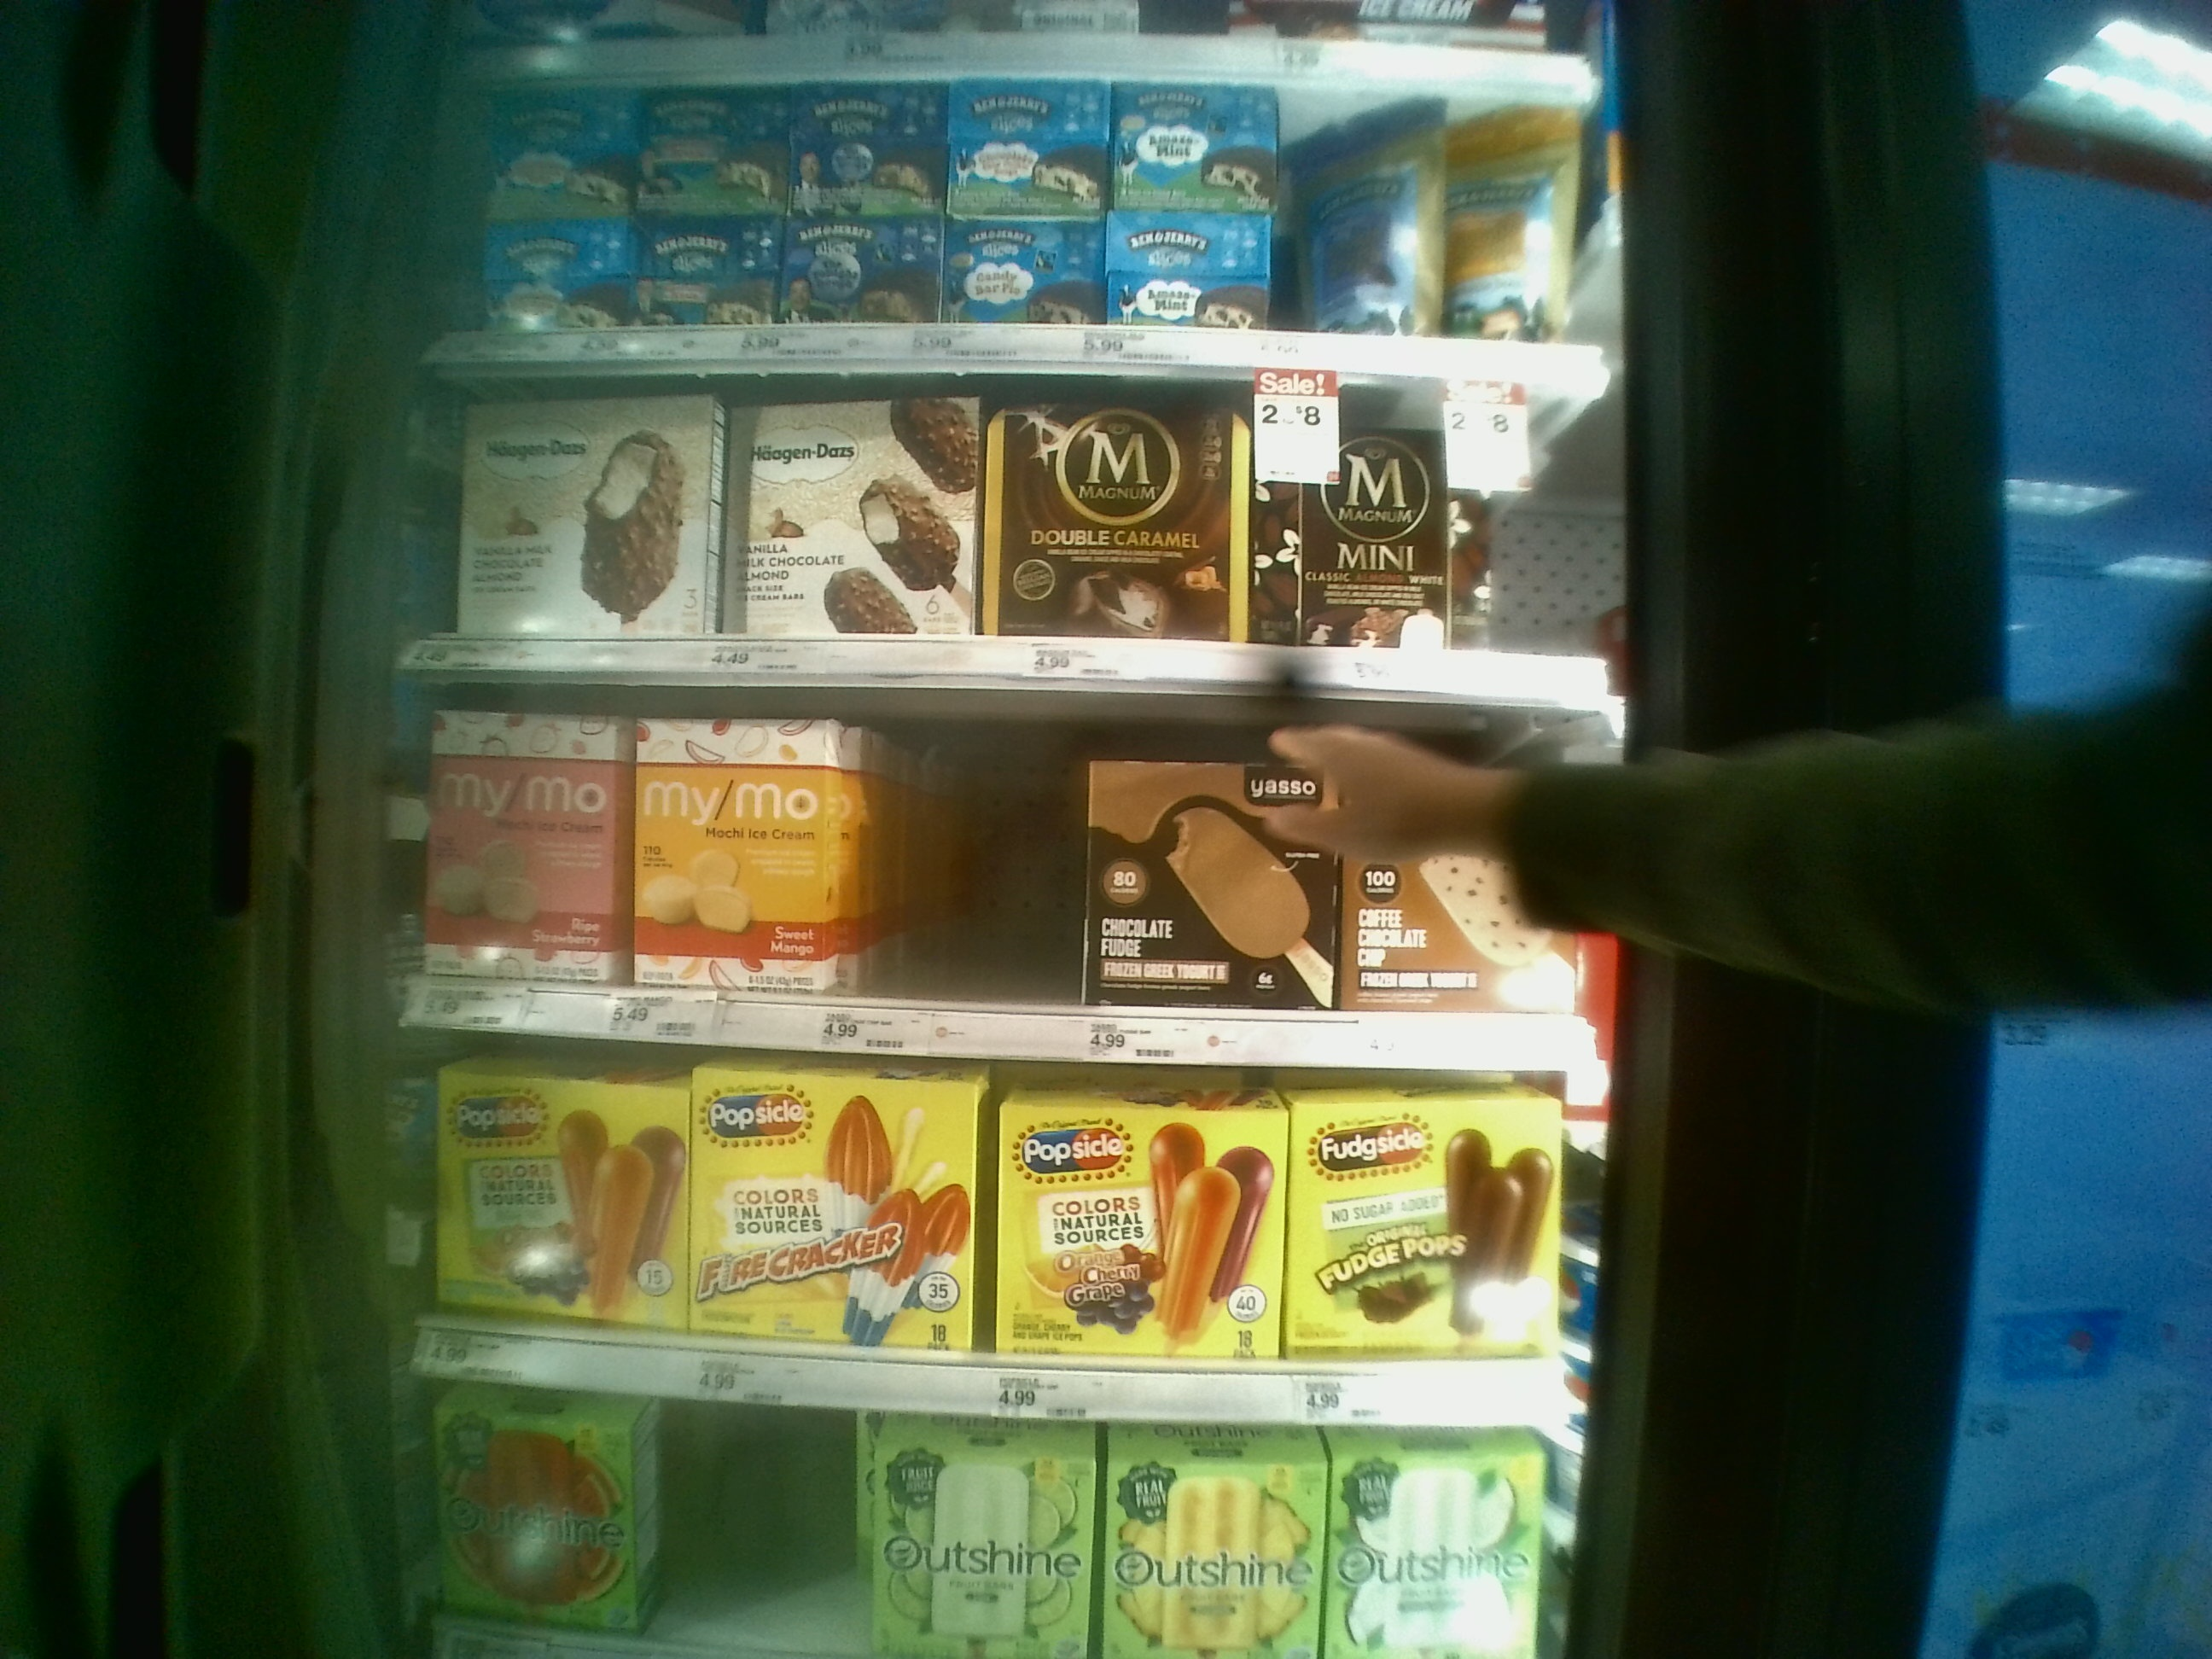shelf: (409, 1070, 1601, 1434), (409, 361, 1641, 676)
